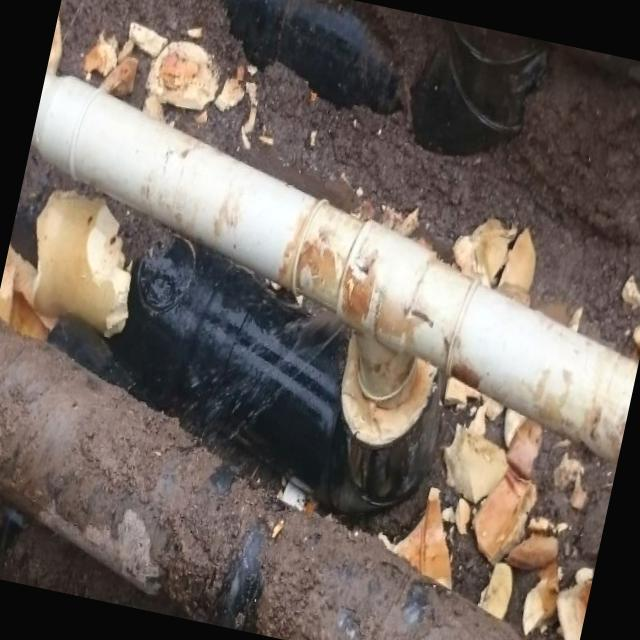gas: (29, 74, 638, 460)
